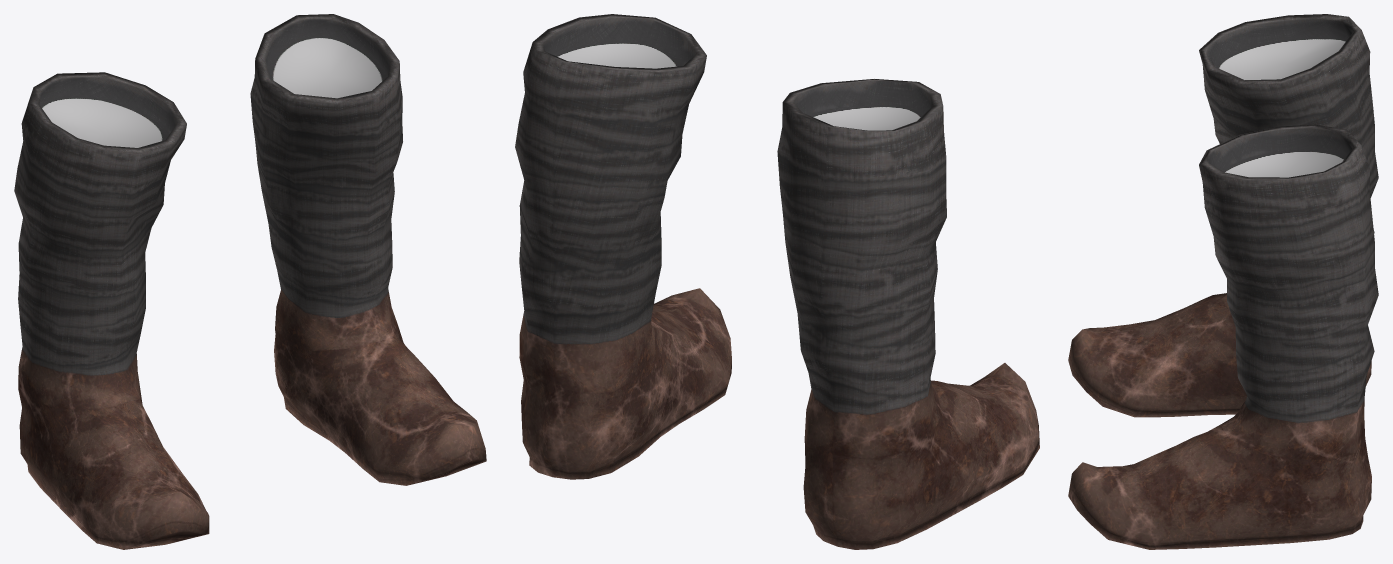
The model's file is easterlingwarriors01_boots.fbx.
3 renders of one model, left to right at view 1: azimuth 30°, elevation 25°; view 2: azimuth 150°, elevation 25°; view 3: azimuth 270°, elevation 25°, orthographic. The views are drawn at different scales.
Parts seen in each view (by area): view 1: easterlingwarriors01_boots; view 2: easterlingwarriors01_boots; view 3: easterlingwarriors01_boots.
Boxes of the visible parts, box(x1,y1,x2,y2) form: easterlingwarriors01_boots: box(14, 14, 486, 549); easterlingwarriors01_boots: box(515, 14, 1039, 549); easterlingwarriors01_boots: box(1068, 14, 1378, 549).
Size of the model in its own units: 0.4746 by 0.3404 by 0.4507.
Materials: 1 (1 with a texture image).
